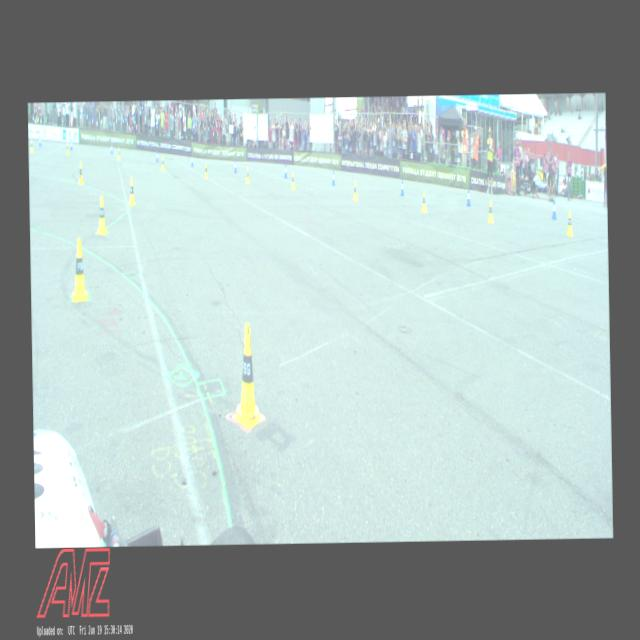blue_cone: (551, 199, 556, 219), (466, 188, 471, 206), (399, 178, 404, 195), (331, 170, 335, 186), (284, 163, 287, 178), (38, 136, 42, 146), (234, 159, 237, 172), (190, 154, 193, 166), (110, 142, 113, 154), (156, 150, 158, 162), (70, 139, 72, 150)
yellow_cone: (230, 322, 262, 428), (70, 238, 88, 300), (95, 196, 106, 234), (128, 178, 134, 205), (566, 210, 572, 236), (78, 160, 84, 184), (487, 200, 493, 223), (421, 190, 426, 212), (353, 181, 357, 201), (291, 172, 295, 190), (204, 162, 208, 178), (246, 166, 250, 182), (116, 146, 120, 160), (160, 156, 164, 170), (30, 139, 33, 152), (66, 142, 68, 155)
